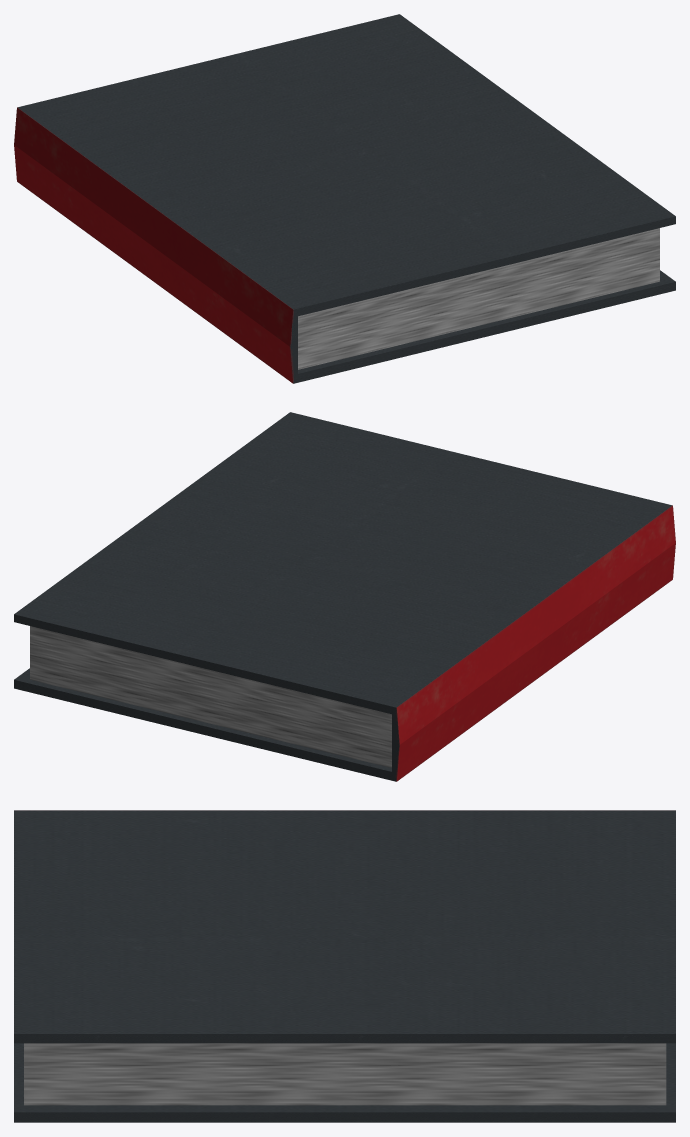
The model's file is Książka_Anona_3.fbx.
The picture shows the model from 3 angles, top to bottom: view 1: azimuth 30°, elevation 25°; view 2: azimuth 150°, elevation 25°; view 3: azimuth 270°, elevation 25°; orthographic projection. The views are drawn at different scales.
Parts seen in each view (by area): view 1: Książka_Anona_3; view 2: Książka_Anona_3; view 3: Książka_Anona_3.
Part boxes in pixels (<box>): Książka_Anona_3: <box>14,14,675,383</box>; Książka_Anona_3: <box>14,412,675,781</box>; Książka_Anona_3: <box>14,810,675,1122</box>.
Bounding box in the file's own units: 15.8 × 2.9 × 19.6.
